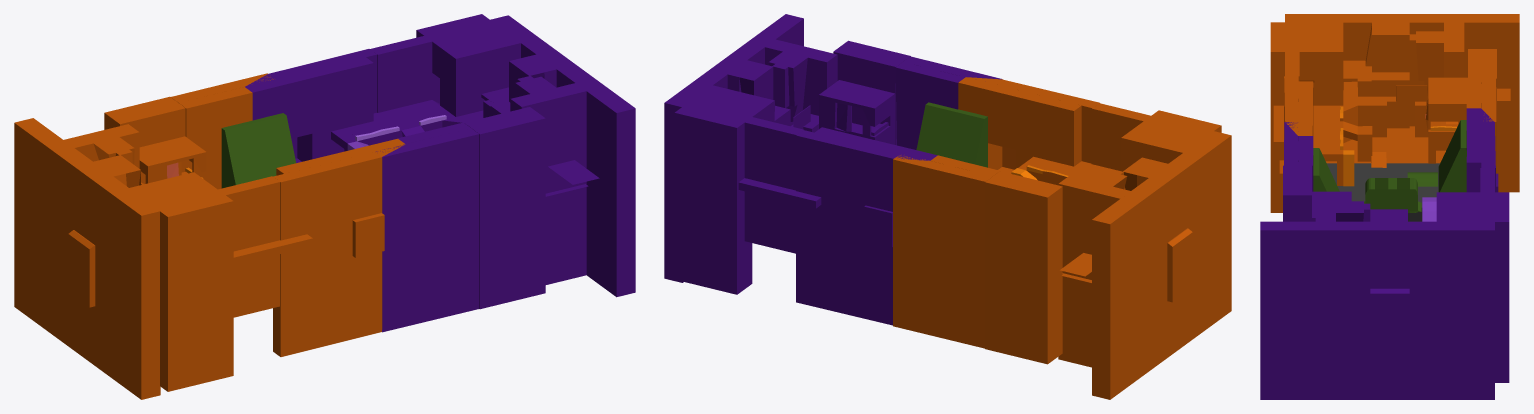
The model's file is Big Bass v5.glb.
The picture shows the model from 3 angles, left to right: view 1: azimuth 30°, elevation 25°; view 2: azimuth 150°, elevation 25°; view 3: azimuth 270°, elevation 25°; orthographic projection. The views are drawn at different scales.
Visible parts, largest first — view 1: Cube.009, Cube.010; view 2: Cube.009, Cube.011; view 3: Cube.009, Cube.010, Cube.011.
Part boxes in pixels (box(x1,y1,x2,y2)): Cube.009: box(14, 14, 635, 399); Cube.010: box(221, 113, 295, 188); Cube.009: box(664, 14, 1231, 399); Cube.011: box(916, 102, 987, 167); Cube.009: box(1260, 14, 1519, 399); Cube.010: box(1438, 120, 1466, 192); Cube.011: box(1313, 148, 1339, 191).
Size of the model in its own units: 159 by 56.93 by 78.92.
Materials: 2 (2 with a texture image).
